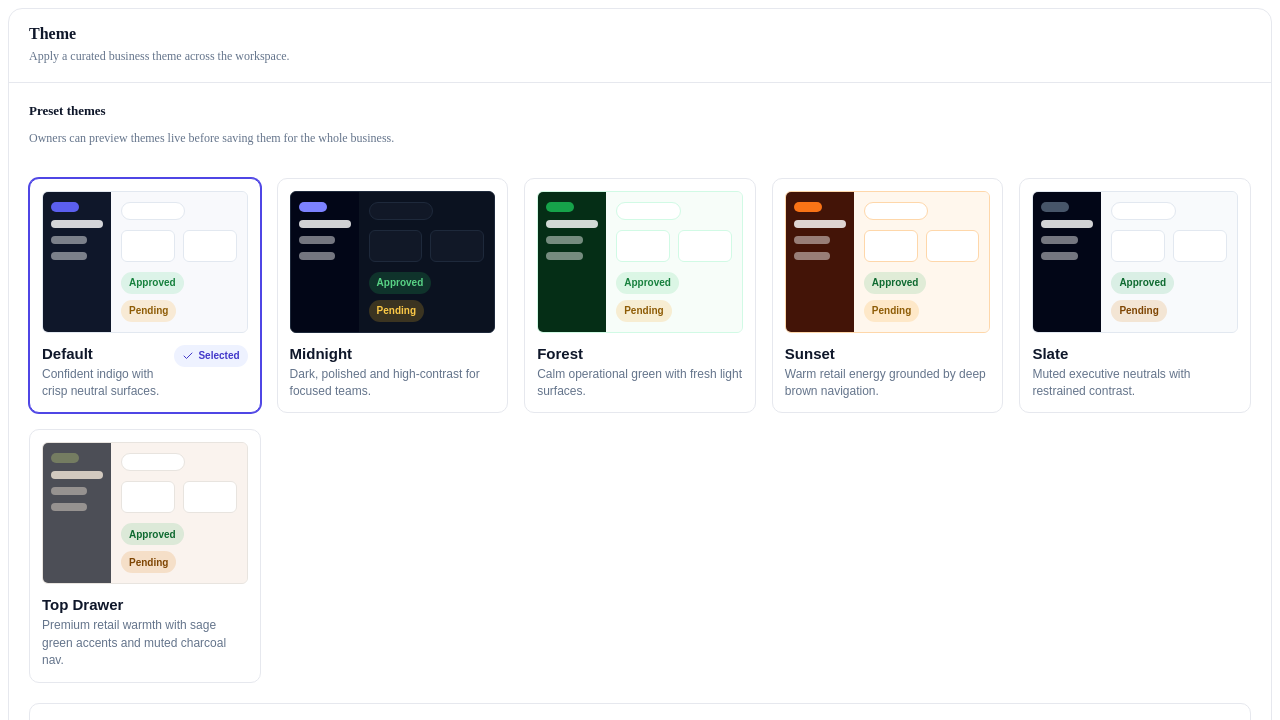
Test: theme save handles rejected failure without staying busy
The image size is (1280, 720).
Later steps or results of the test are not shown.
Click the button "Forest": (640, 296) 524,178 -> 756,413
(page scrolled)
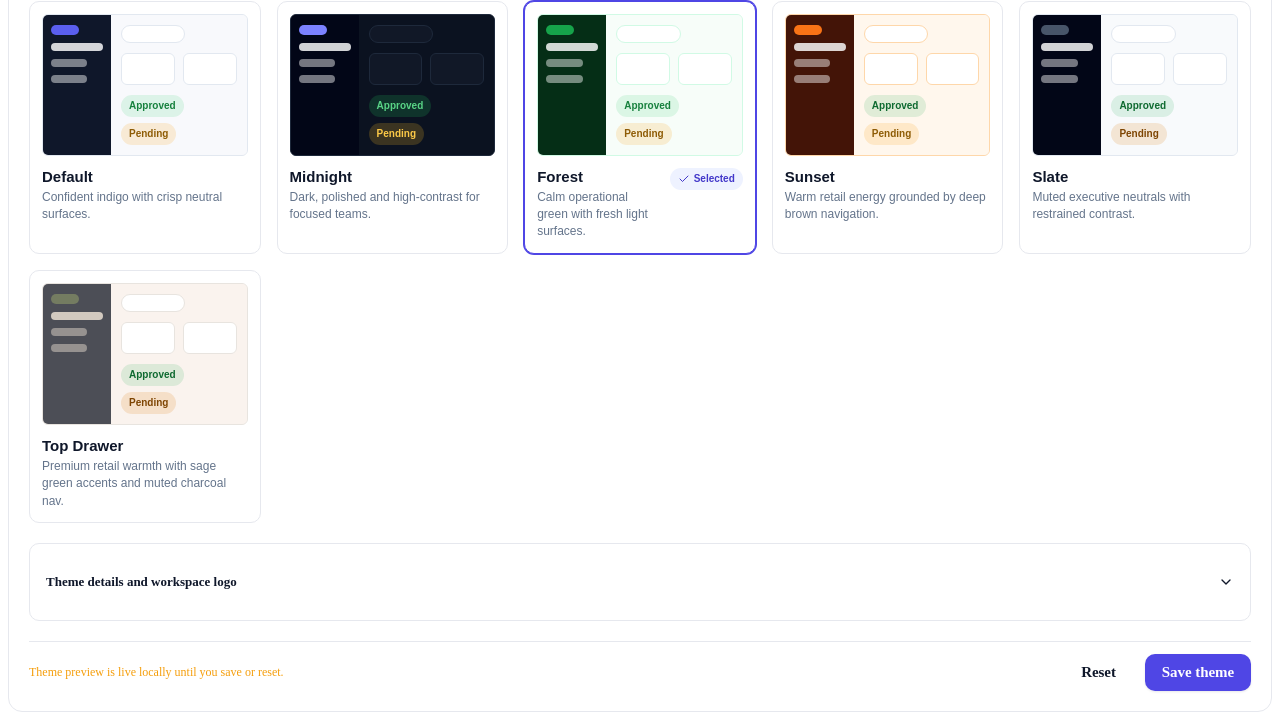
Click the button "Save theme": (1198, 672) 1145,654 -> 1251,691
(page scrolled)
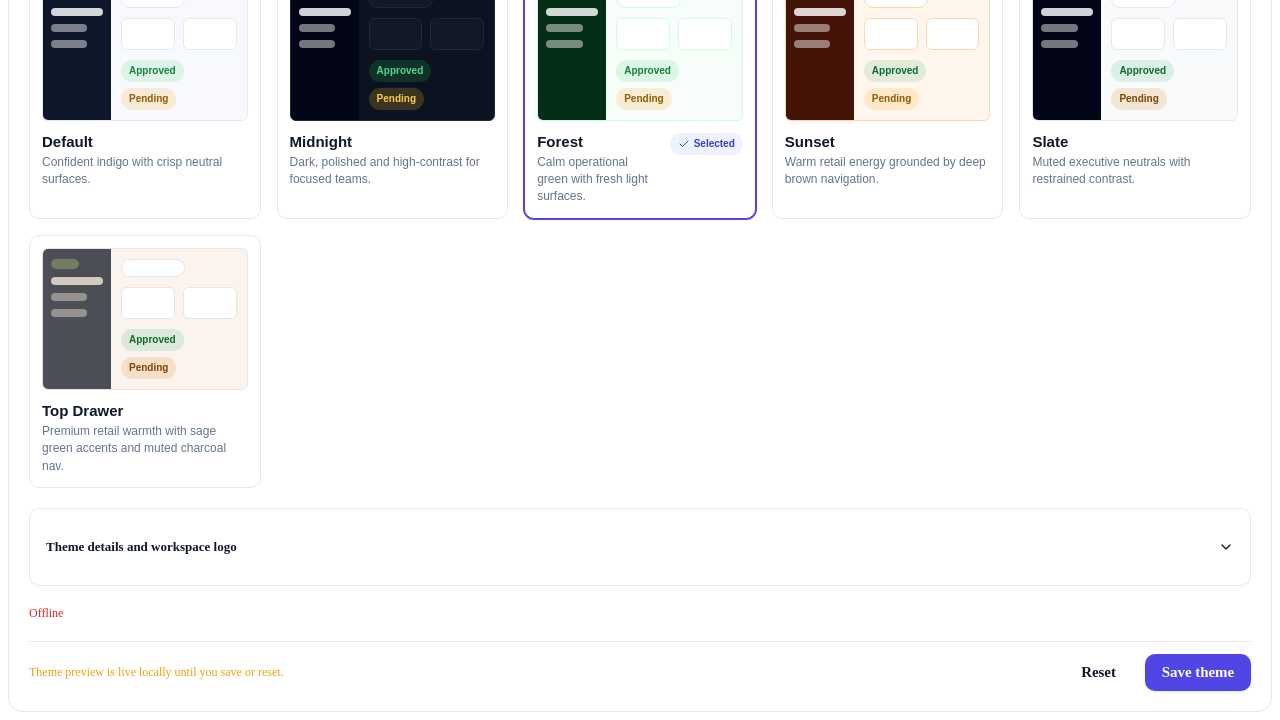
expect the button "Save theme" is enabled: met, box 1145,654 -> 1251,691
